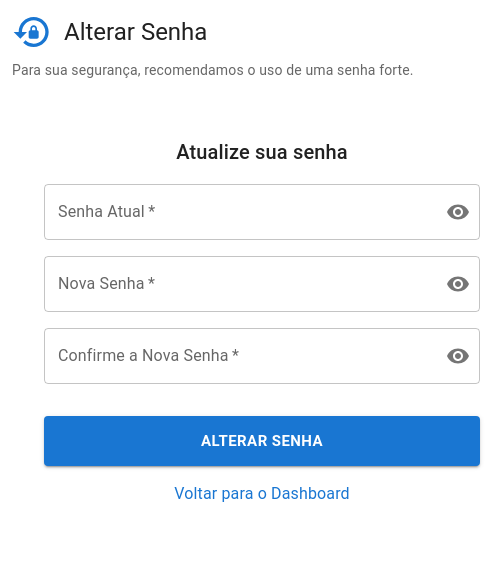
Test: ChangePasswordPage › deve mostrar um erro se as novas senhas não coincidirem
Type "senhaAntiga123" into the password field labelled "Senha Atual *" at (237, 212), box [44, 184, 430, 240]
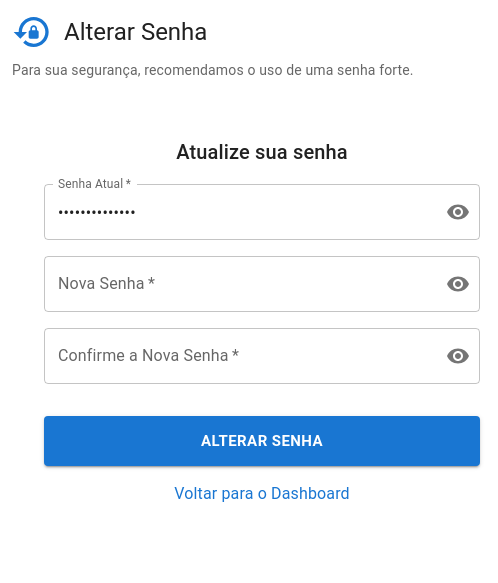
Type "novaSenha" into the password field labelled "Nova Senha *" at (237, 284), box [44, 256, 430, 312]
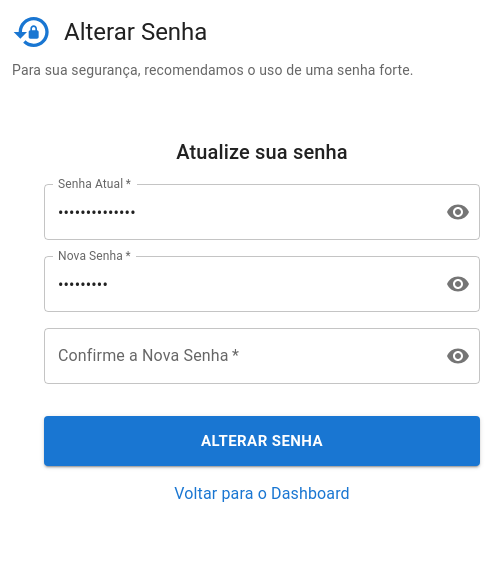
Type "senhaDiferente" into the password field labelled "Confirme a Nova Senha *" at (237, 356), box [44, 328, 430, 384]
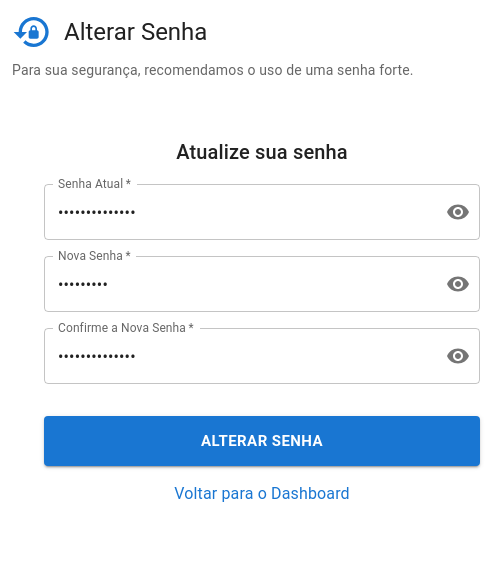
Click the button "Alterar Senha" at (262, 441), box [44, 416, 480, 466]
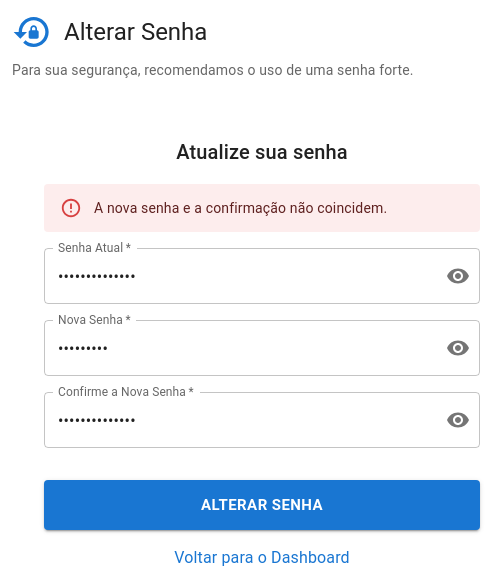
Check: the text "A nova senha e a confirmação não coincidem." is shown, box [94, 200, 387, 216]
